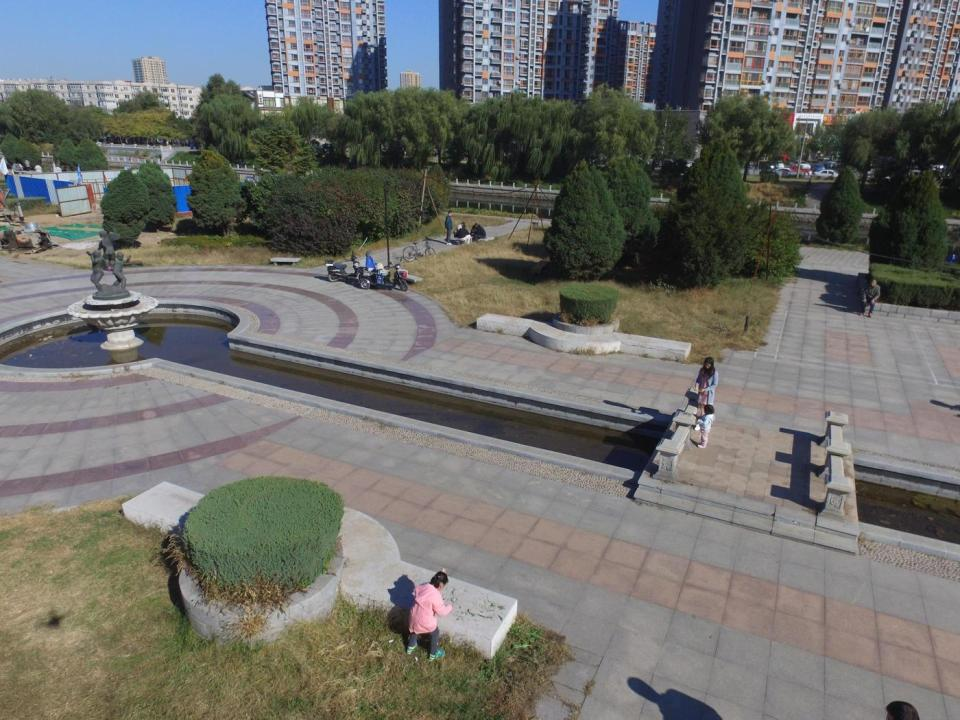car: (813, 168, 840, 182), (815, 154, 837, 170), (787, 165, 813, 178), (788, 158, 810, 173), (772, 167, 797, 178), (808, 158, 826, 173), (768, 158, 789, 170), (756, 160, 777, 171)
